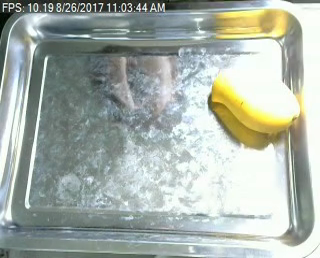Mango: (206, 64, 307, 141)
